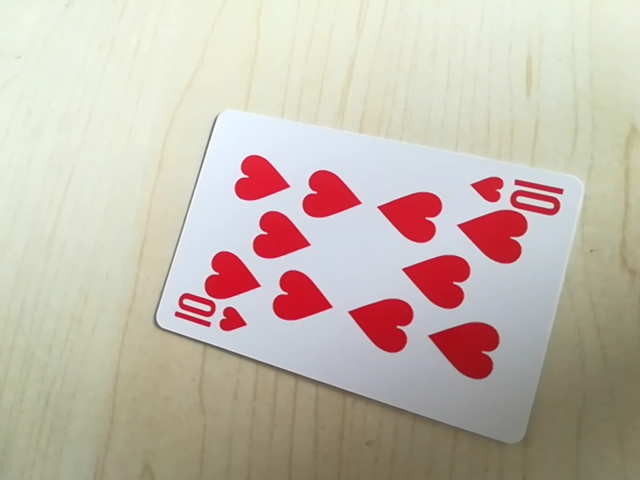hx 10: (467, 171, 569, 213), (169, 296, 250, 336)
